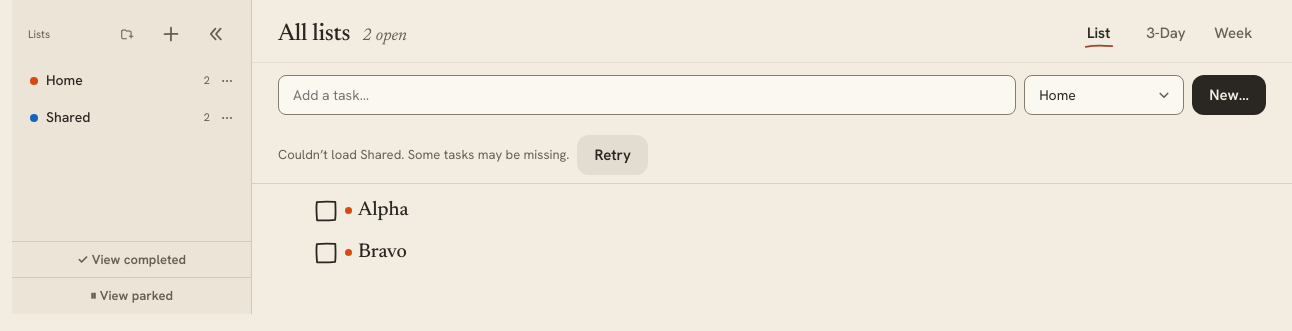
Scenario: 2026-08-25 — one task list that will not load › names the list that failed and offers a retry
The image size is (1292, 331).
Expected: the message shows "Couldn’t load Shared", [278,146,569,163]
Step 1. Click the button "Retry" → (613, 155), box [577,135,648,175]
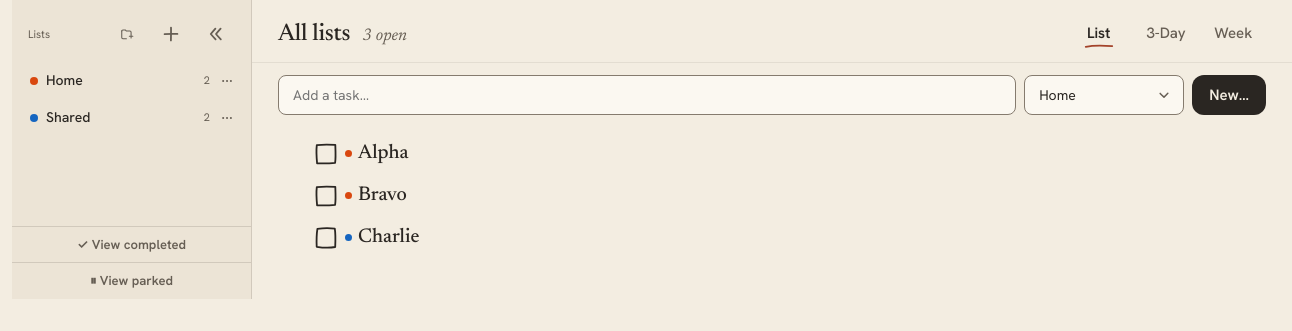
Expected: the message "Couldn’t load Shared. Some tasks may be missing. Retry" is gone
